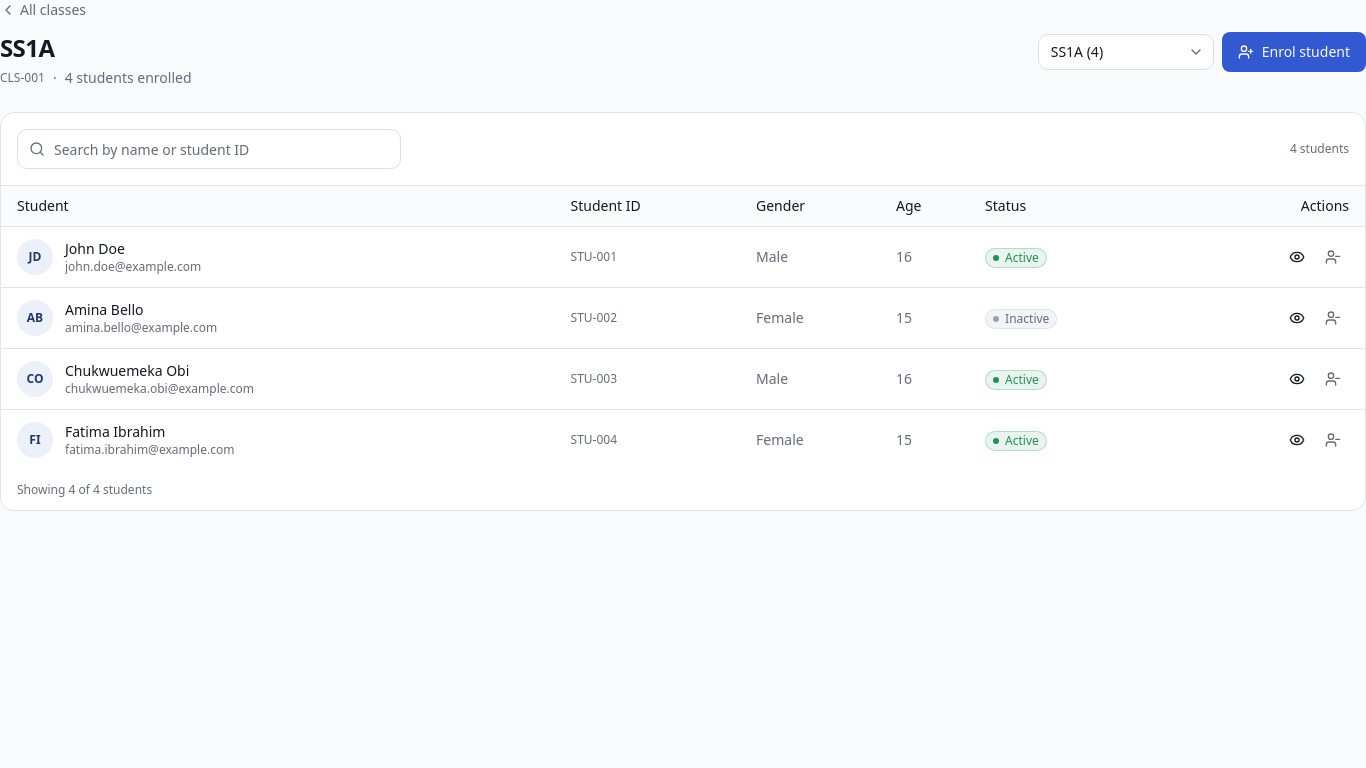
Test: ClassDetailView › enrols a student from the directory and blocks duplicates
Click the button "Enrol student" at (1294, 52), box [1222, 32, 1365, 72]
(page scrolled)
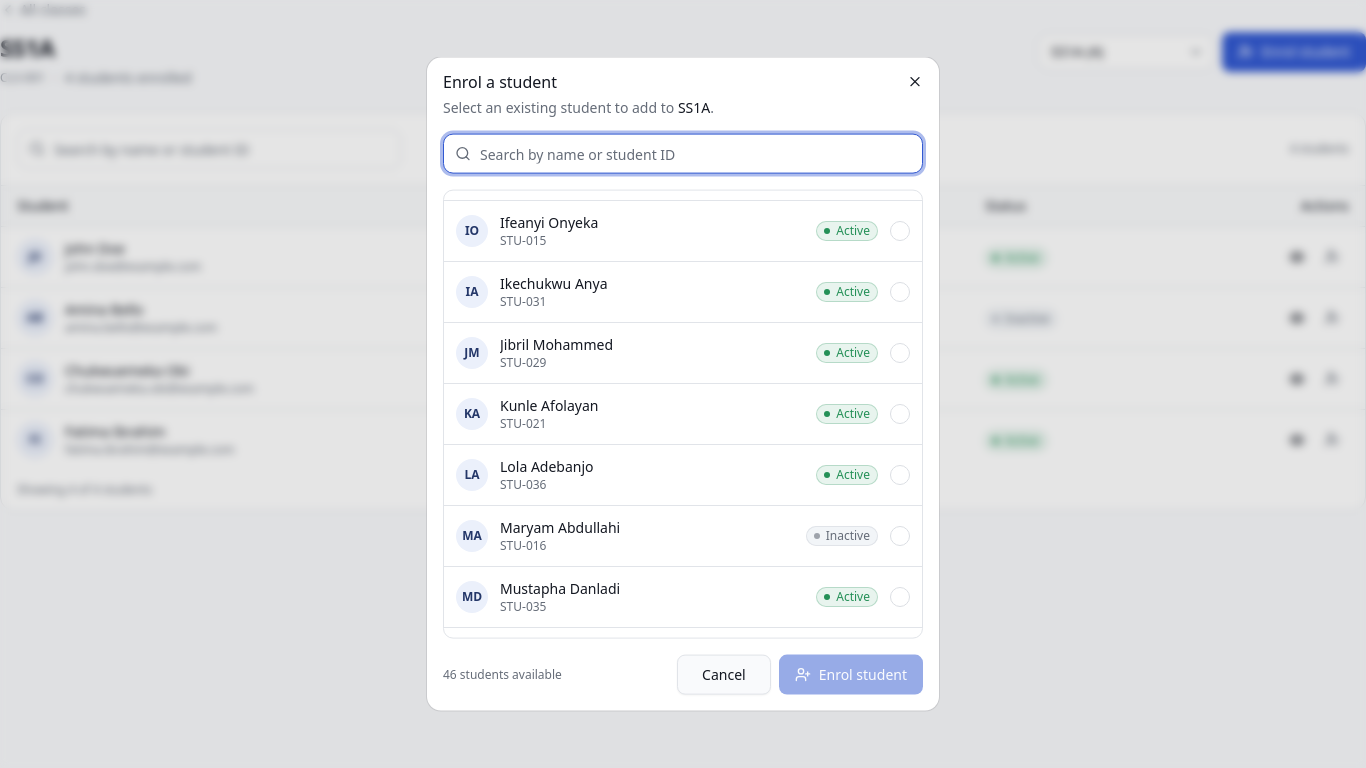
Now the radio button labelled "KA Kunle Afolayan STU-021 Active" is enabled
Click the radio button labelled "KA Kunle Afolayan STU-021 Active" at (472, 414), box [444, 384, 922, 444]
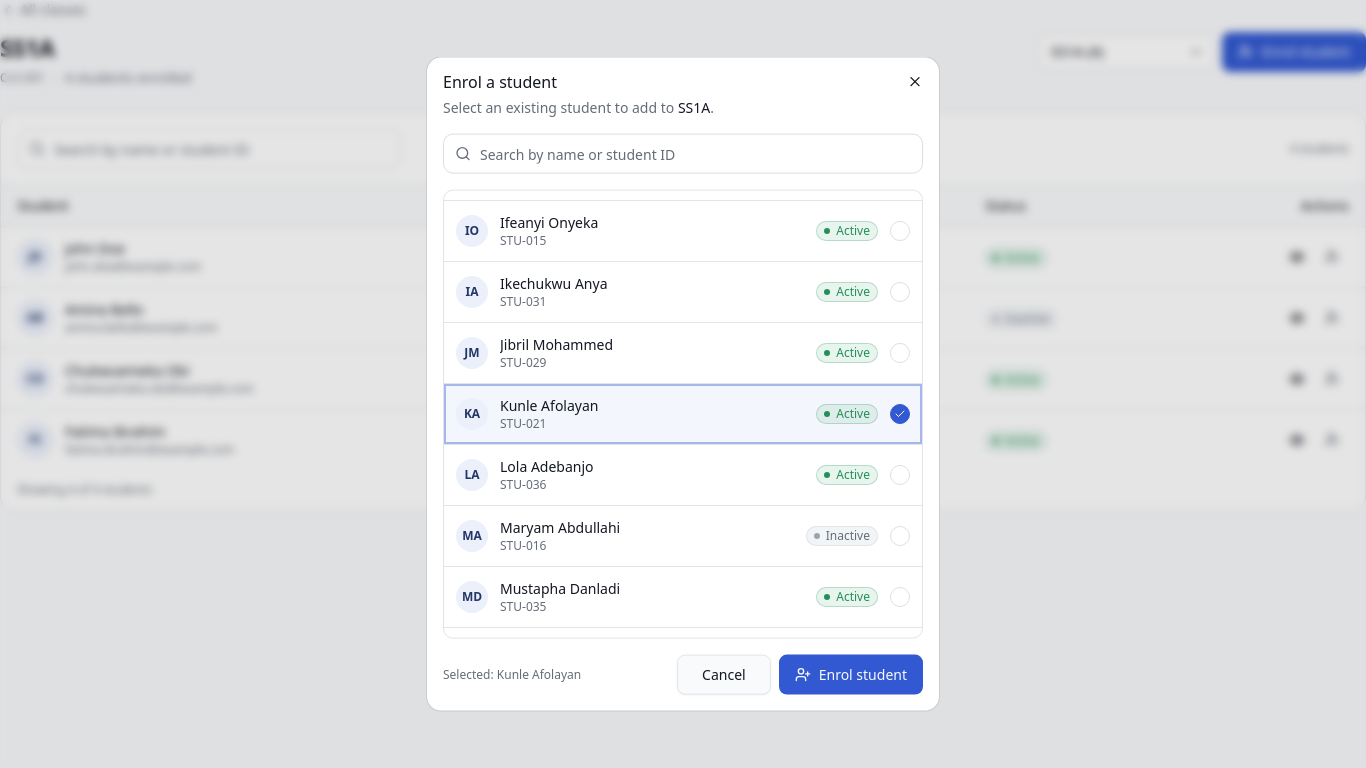
Click the button "Enrol student" at (851, 674), box [779, 654, 923, 694]
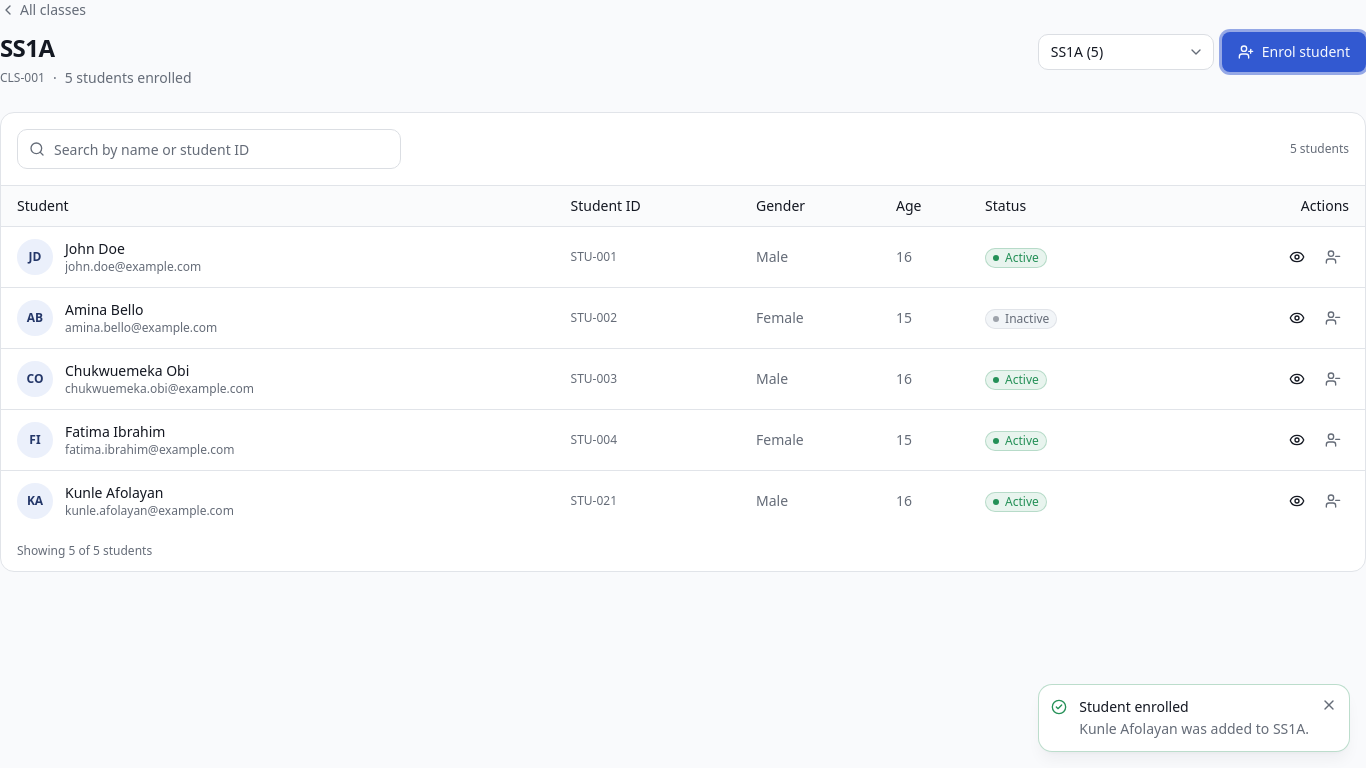
Now the link "Kunle Afolayan" is shown, box [65, 482, 164, 502]
Now the text "Student enrolled" is shown, box [1079, 697, 1189, 716]
